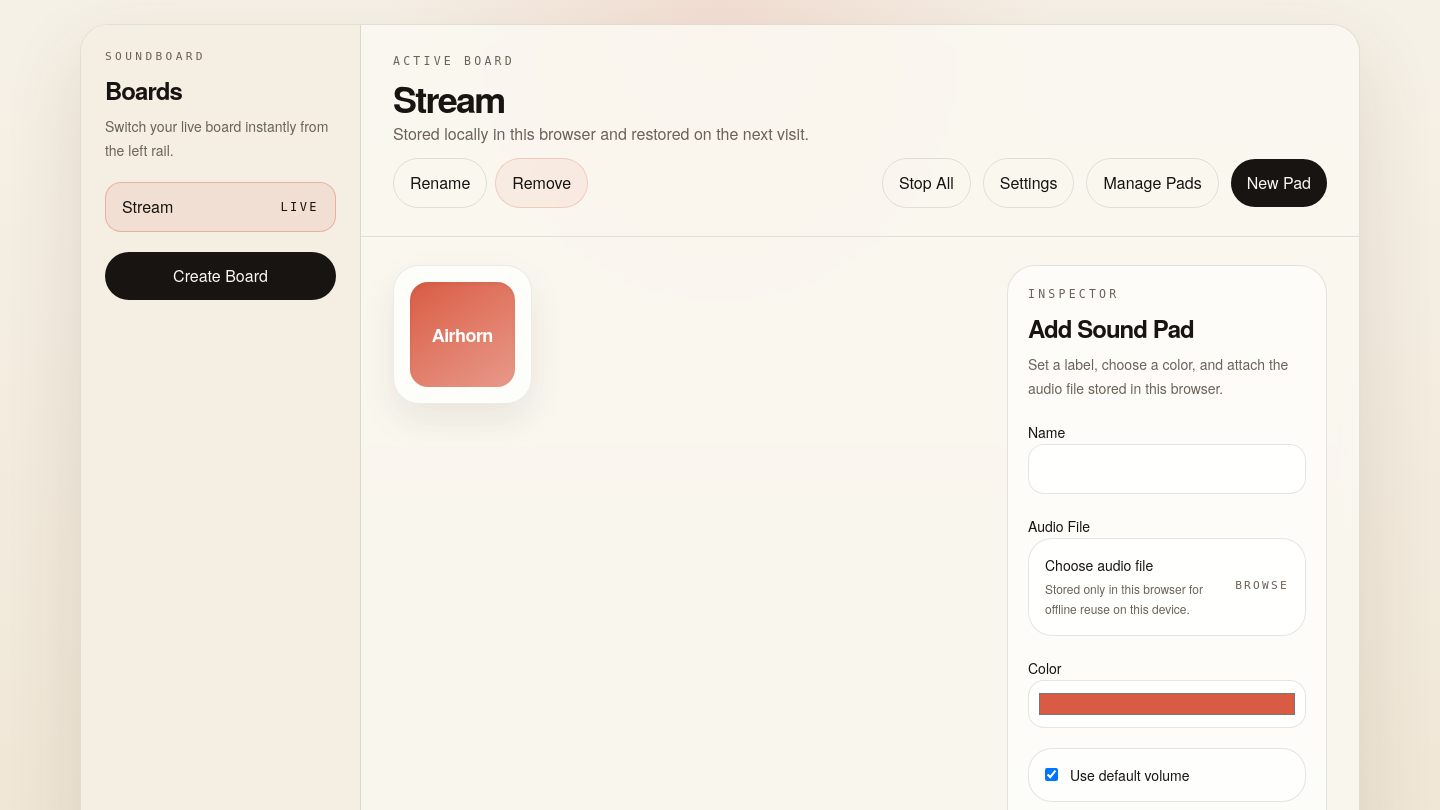
Test case: SoundboardApp › disables New Pad while manage pads is active
This screenshot has width=1440, height=810.
Click the button "Manage Pads" at (1153, 183), box [1086,158,1219,208]
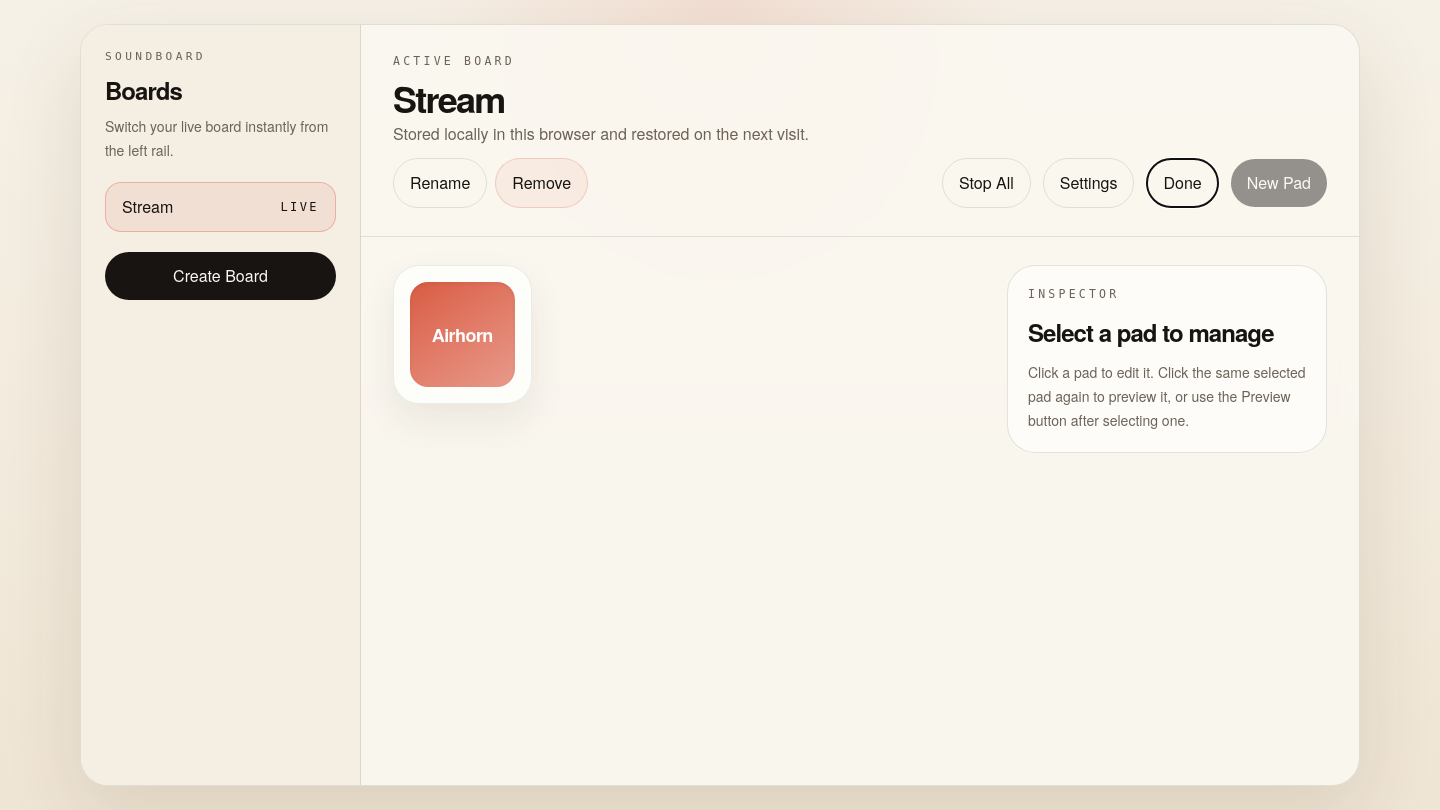
Now the button "New Pad" is disabled, box [1231,159,1327,207]
